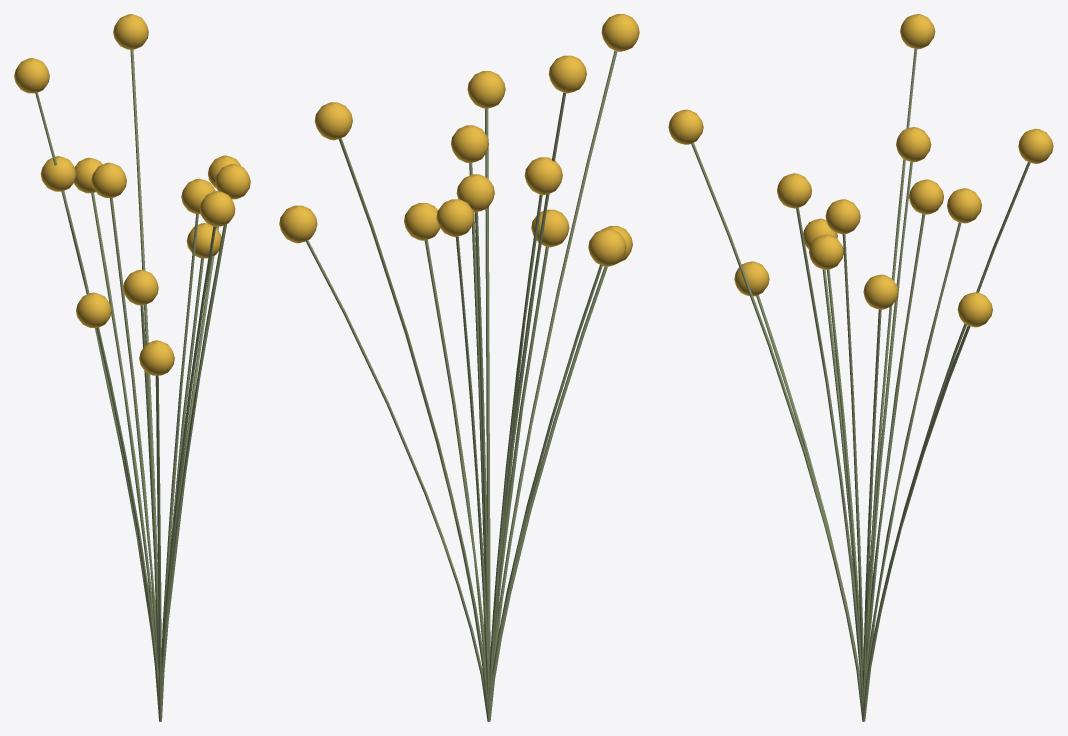
The model's file is billy-1.glb.
3 views of the same model, side by side, from view 1: azimuth 30°, elevation 25°; view 2: azimuth 150°, elevation 25°; view 3: azimuth 270°, elevation 25° (orthographic). The views are drawn at different scales.
Visible parts, largest first — view 1: billy-stems, billy-leaves; view 2: billy-stems, billy-leaves; view 3: billy-stems, billy-leaves.
Part boxes in pixels (x1,y1,x2,y2): billy-stems: [35, 49, 226, 721]; billy-leaves: [14, 14, 250, 375]; billy-stems: [306, 50, 617, 721]; billy-leaves: [279, 14, 639, 266]; billy-stems: [691, 48, 1030, 721]; billy-leaves: [668, 14, 1053, 327].
Size of the model in its own units: 0.262 by 0.6571 by 0.3491.
